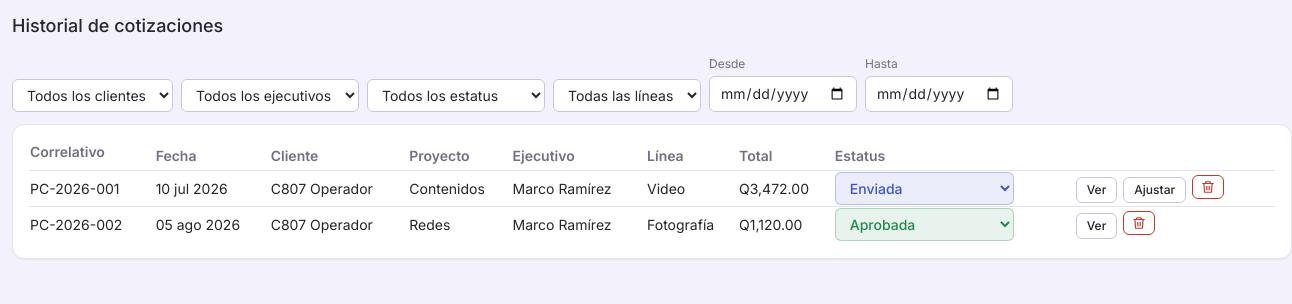
Test case: HistorialPage › shows the server error when the delete is rejected
Expected: the text "PC-2026-001" is shown, [29, 170, 155, 206]
Click the button named "Eliminar cotización PC-2026-001" at (1208, 186), box [1192, 174, 1224, 198]
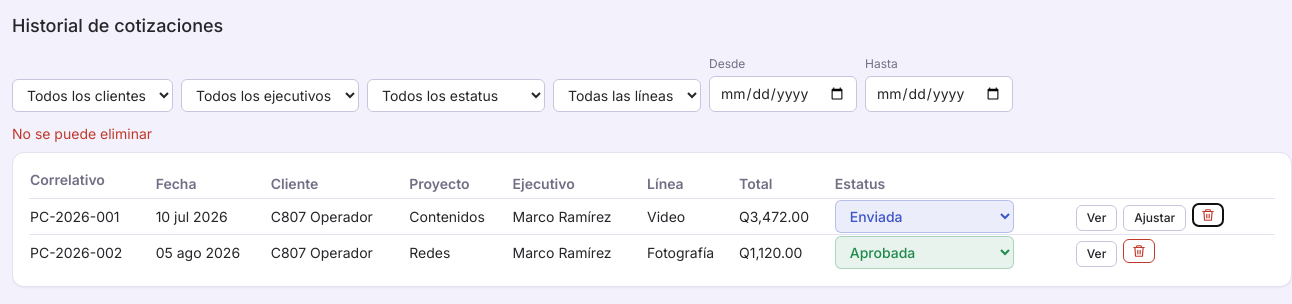
Expected: the message reads "No se puede eliminar", [12, 125, 152, 142]
